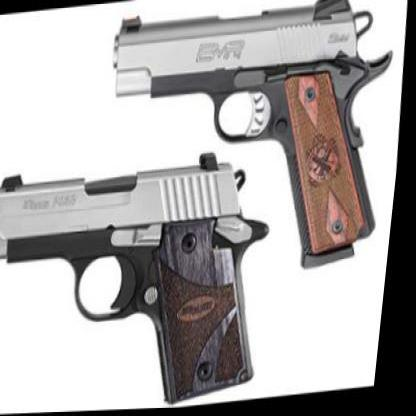pistol: (85, 0, 402, 289), (0, 146, 290, 412)
